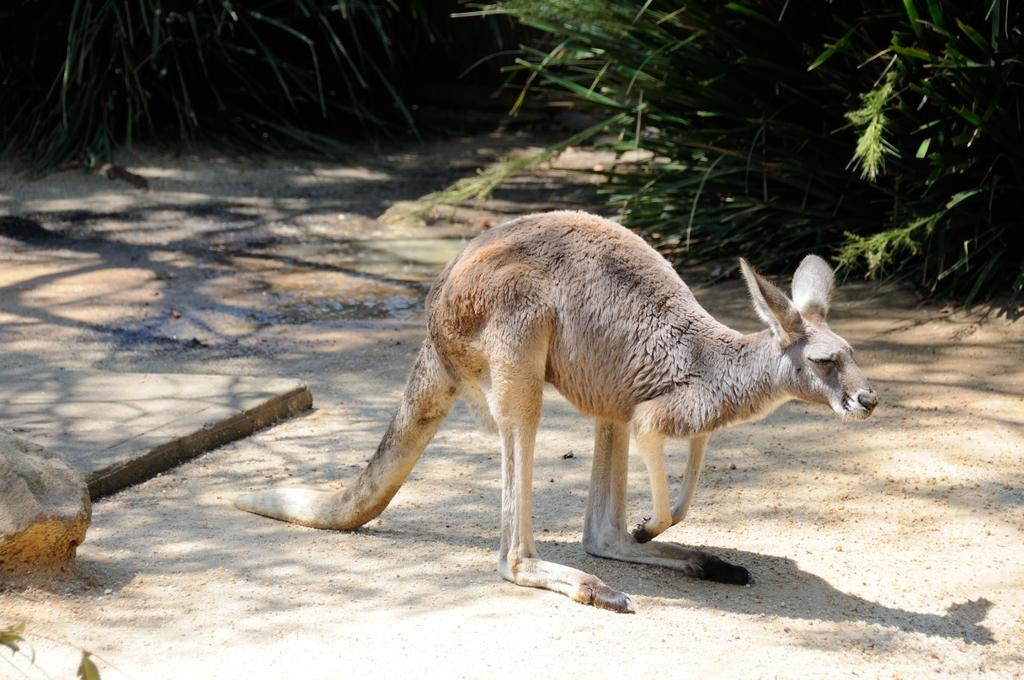kangaroo: (232, 210, 876, 612)
